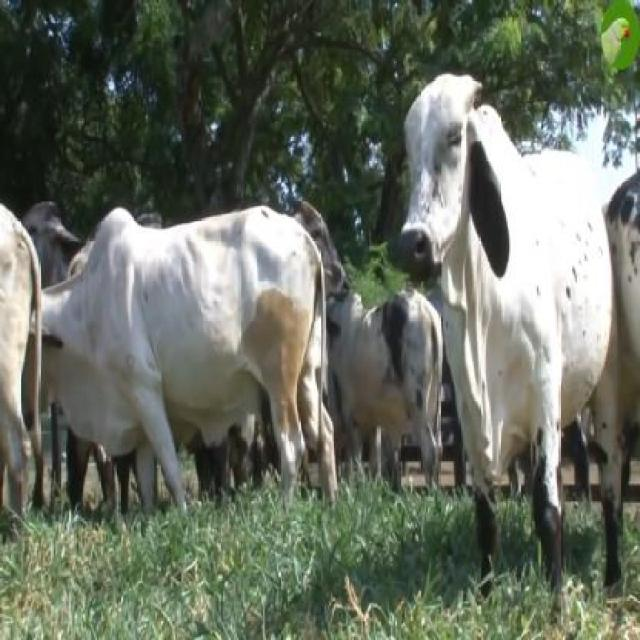Cow: (393, 74, 624, 598)
